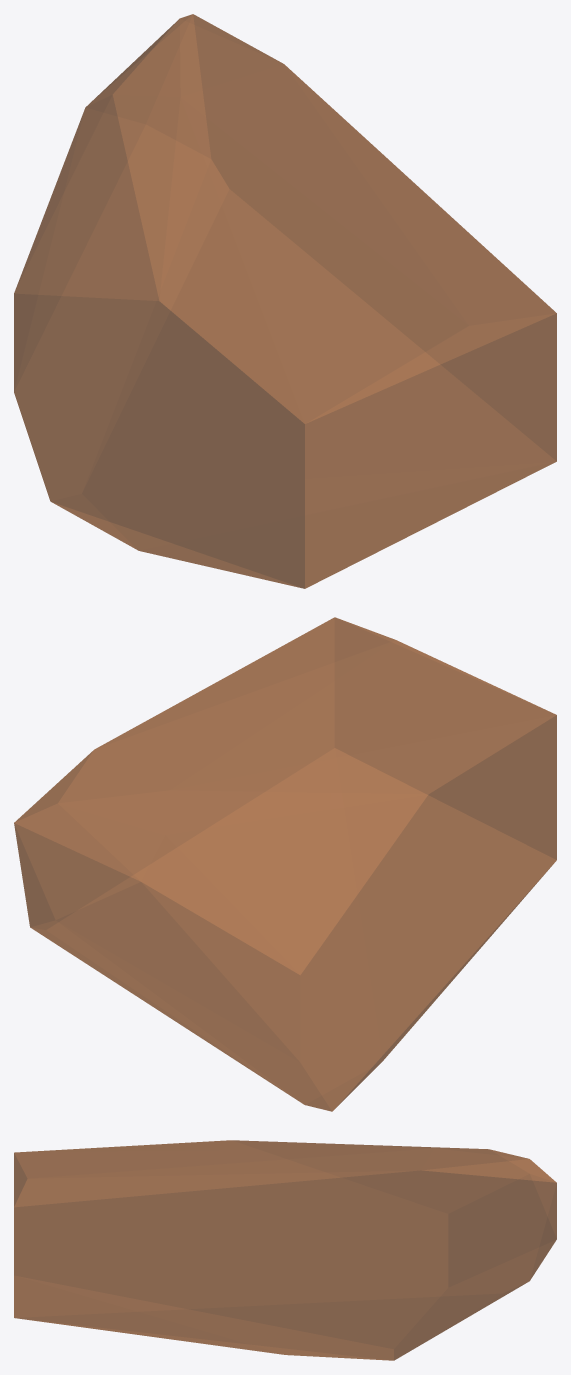
3 renders of one model, top to bottom at view 1: azimuth 30°, elevation 25°; view 2: azimuth 150°, elevation 25°; view 3: azimuth 270°, elevation 25°, orthographic. The views are drawn at different scales.
Parts seen in each view (by area): view 1: Shape_IndexedFaceSet.005_Shape_IndexedFaceSet.7611; view 2: Shape_IndexedFaceSet.005_Shape_IndexedFaceSet.7611; view 3: Shape_IndexedFaceSet.005_Shape_IndexedFaceSet.7611.
Boxes of the visible parts, x1,y1,x2,y2 form: Shape_IndexedFaceSet.005_Shape_IndexedFaceSet.7611: [14, 14, 556, 588]; Shape_IndexedFaceSet.005_Shape_IndexedFaceSet.7611: [14, 617, 556, 1111]; Shape_IndexedFaceSet.005_Shape_IndexedFaceSet.7611: [14, 1140, 556, 1360].
Size of the model in its own units: 0.0327 by 0.045 by 0.0818.
